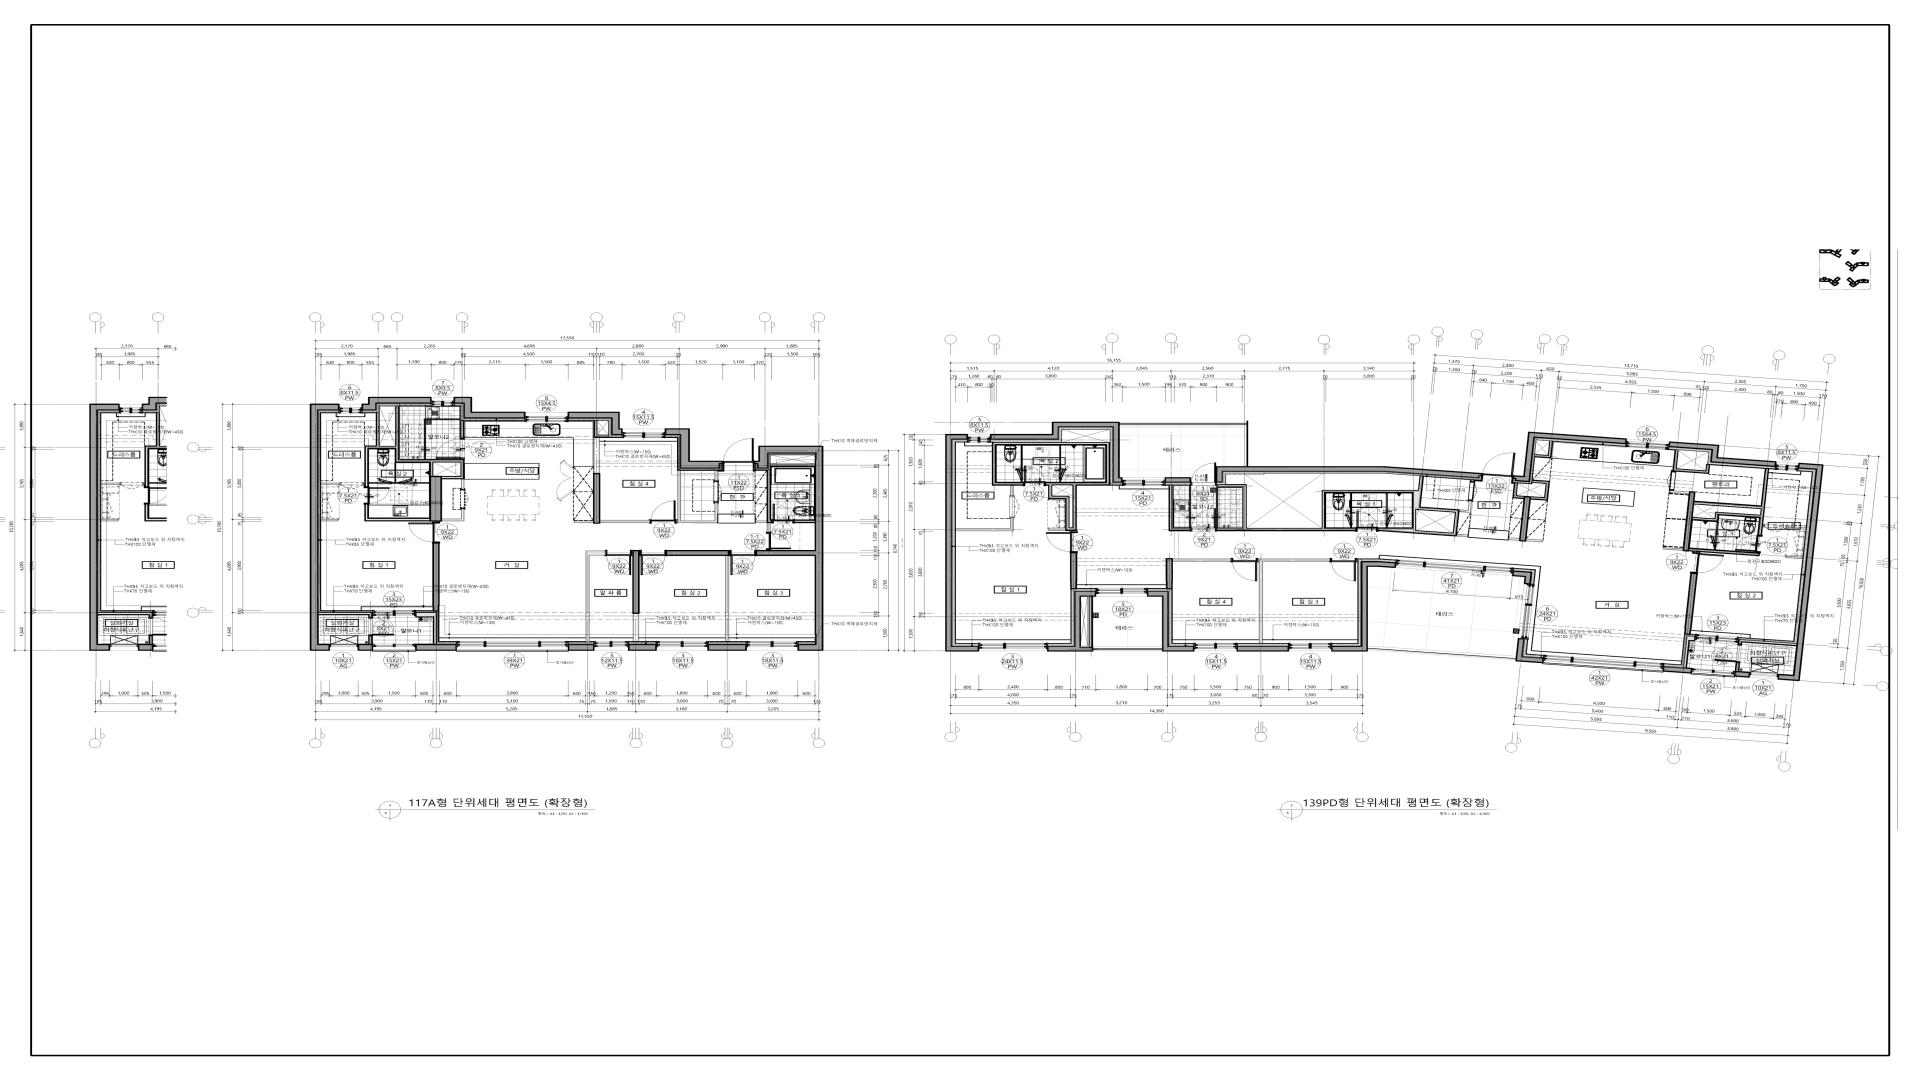door: (723, 438, 754, 472), (1482, 451, 1516, 479), (1691, 551, 1725, 575), (605, 550, 633, 575), (640, 550, 667, 575), (729, 550, 757, 575), (1046, 531, 1077, 553), (409, 522, 440, 543), (650, 500, 678, 524), (1331, 558, 1358, 582), (1232, 558, 1259, 582), (435, 438, 465, 459), (1191, 508, 1217, 531), (1191, 463, 1216, 485), (1735, 534, 1763, 553), (1714, 644, 1742, 662), (364, 487, 390, 505), (368, 617, 394, 636), (1023, 465, 1046, 487), (771, 504, 795, 524), (1356, 512, 1378, 531), (766, 533, 791, 550), (1009, 496, 1021, 518), (1763, 524, 1788, 533), (1665, 471, 1676, 491)
wall: (1217, 475, 1473, 537), (754, 446, 824, 651), (992, 442, 1110, 531), (1778, 463, 1824, 682), (364, 406, 465, 489), (990, 422, 1122, 483), (945, 434, 980, 651), (310, 404, 339, 651), (1259, 559, 1331, 644), (1120, 421, 1249, 467), (1513, 431, 1627, 483), (1332, 560, 1396, 651), (1692, 468, 1770, 535), (1216, 467, 1482, 483), (1047, 591, 1096, 651), (1147, 591, 1195, 651), (1668, 442, 1776, 467), (665, 429, 723, 468), (1367, 646, 1515, 661), (678, 471, 717, 524), (585, 551, 605, 642), (454, 397, 526, 418), (568, 411, 622, 435), (1168, 484, 1191, 531), (364, 505, 430, 521), (756, 469, 771, 533), (1672, 450, 1710, 475), (361, 397, 431, 410), (1684, 574, 1698, 634), (593, 421, 609, 473), (1683, 492, 1696, 551), (956, 518, 1014, 531), (1515, 638, 1543, 663), (415, 612, 436, 644), (1689, 547, 1760, 556), (429, 476, 442, 522), (1519, 496, 1531, 542), (433, 543, 439, 612), (633, 550, 640, 615), (1683, 636, 1696, 667), (1531, 480, 1551, 501), (667, 550, 729, 556), (1738, 640, 1796, 646), (1534, 440, 1553, 459), (1093, 646, 1162, 651), (725, 556, 729, 641), (593, 473, 600, 524), (415, 644, 456, 651), (708, 644, 746, 651), (319, 612, 373, 617), (1069, 554, 1077, 589), (1237, 646, 1290, 651), (442, 509, 464, 521), (1513, 571, 1532, 584), (628, 644, 657, 651), (1664, 666, 1692, 674), (1166, 558, 1172, 589), (568, 644, 595, 651), (1513, 483, 1524, 500), (600, 520, 650, 524), (1089, 597, 1093, 647), (633, 615, 640, 641), (1174, 559, 1232, 562), (1164, 477, 1191, 483), (357, 644, 373, 651), (770, 464, 815, 467), (1735, 671, 1750, 678), (795, 520, 815, 524), (1663, 547, 1683, 551), (1669, 491, 1689, 495), (1788, 526, 1807, 530), (460, 421, 464, 438), (1527, 538, 1543, 542), (322, 483, 340, 485), (575, 521, 593, 524), (1735, 662, 1741, 671), (1785, 556, 1803, 559), (368, 636, 373, 644), (715, 471, 717, 481), (1509, 538, 1519, 541), (322, 520, 339, 521)
window: (1543, 655, 1664, 673), (1396, 559, 1514, 576), (458, 641, 568, 651), (1518, 584, 1535, 640), (980, 642, 1047, 651), (657, 641, 707, 650), (748, 641, 798, 650), (1696, 634, 1739, 645), (1626, 439, 1669, 450), (1096, 588, 1147, 596), (1692, 669, 1735, 678), (1122, 477, 1164, 487), (1195, 642, 1237, 651), (1290, 642, 1332, 651), (526, 413, 568, 422), (622, 429, 665, 438), (373, 609, 415, 617), (373, 644, 415, 651), (595, 641, 628, 650), (1776, 462, 1799, 472), (339, 405, 361, 414), (431, 397, 454, 406), (1750, 673, 1779, 679), (330, 644, 357, 650), (968, 435, 990, 443)
